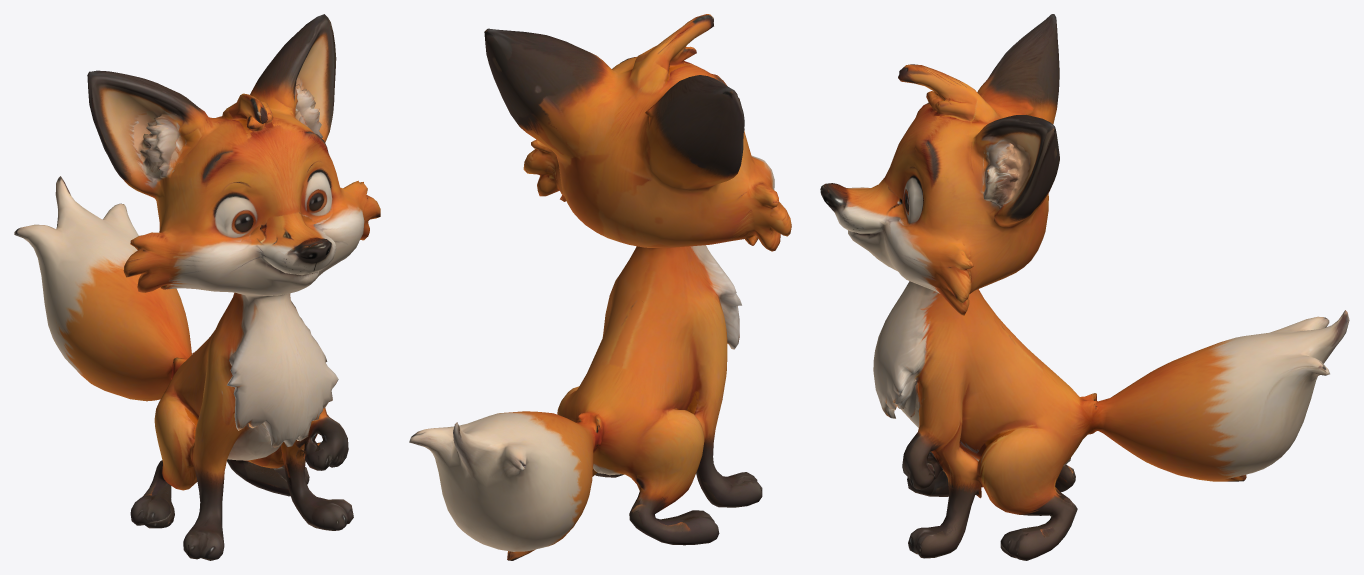
File: fox.glb
The picture shows the model from 3 angles, left to right: view 1: azimuth 30°, elevation 25°; view 2: azimuth 150°, elevation 25°; view 3: azimuth 270°, elevation 25°; orthographic projection. The views are drawn at different scales.
Size of the model in its own units: 32442 by 54898 by 58172.
1 material, 1 textured.
